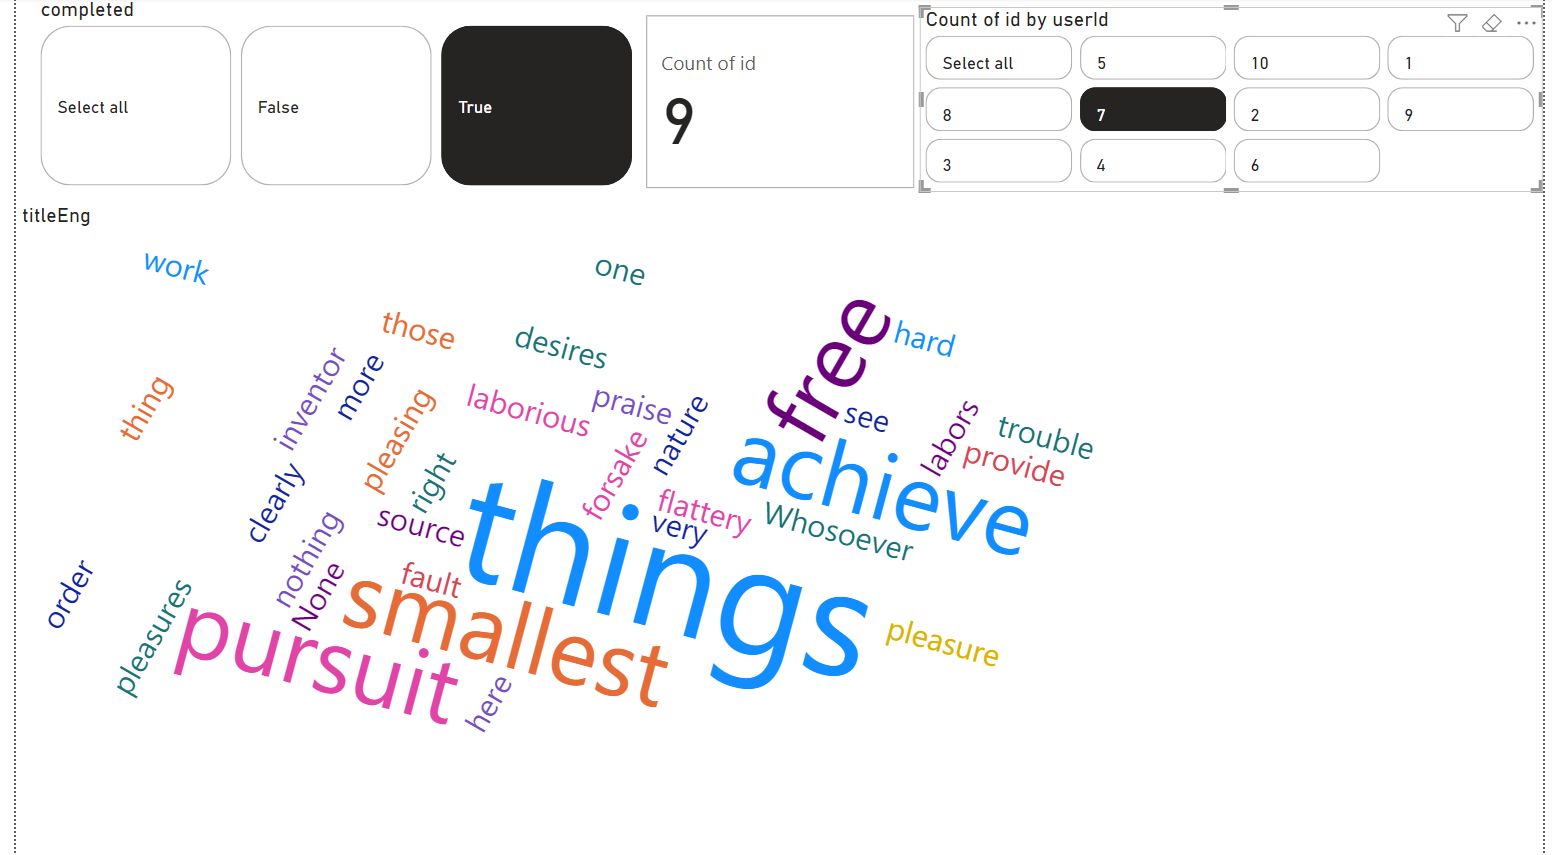

The page's visual inventory and layout, read from the dashboard file:
{"tool":"powerbi","page":{"name":"Page 1","canvas":[1280,720],"ordinal":0},"visuals":[{"type":"WordCloud1447959067750","fields":{"Category":["typicode.titleEng"]},"box":[0,172.5,1279.7,547.8],"z":0},{"type":"cardVisual","fields":{"Data":["CountNonNull(typicode.id)"]},"box":[524.6,10.1,233.3,155.1],"z":1000},{"type":"advancedSlicerVisual","fields":{"Values":["typicode.completed"]},"box":[15.9,0,508.7,163.8],"z":2000},{"type":"advancedSlicerVisual","fields":{"Values":["typicode.userId"]},"box":[758,8.7,521.7,155.1],"z":3000}]}

Visuals, with their boxes in screenshot pixels (x1, y1, x2, y2), scaled from the page's 1280x720 canvas onto the 1552x855 screenshot:
WordCloud1447959067750 - typicode.titleEng: (0, 205, 1551, 854)
cardVisual - CountNonNull(typicode.id): (636, 12, 919, 196)
advancedSlicerVisual - typicode.completed: (19, 0, 636, 195)
advancedSlicerVisual - typicode.userId: (919, 10, 1551, 195)
